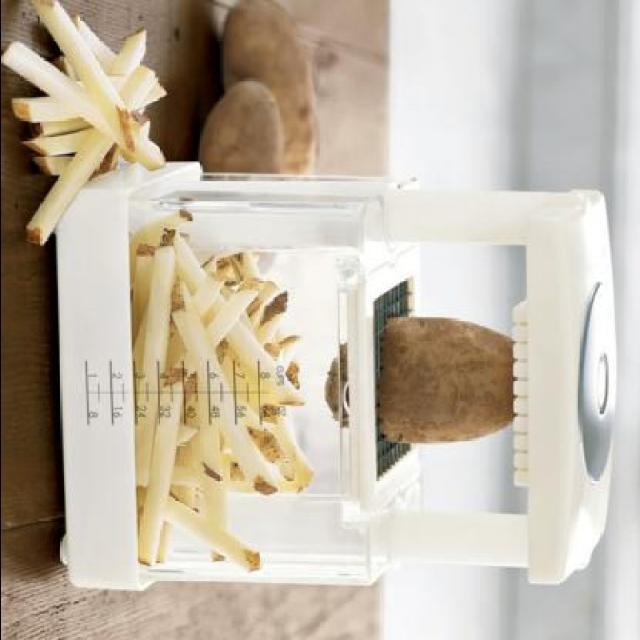Potato: (136, 210, 304, 568), (1, 0, 167, 246), (366, 310, 523, 454), (218, 0, 320, 177), (197, 80, 280, 172)
